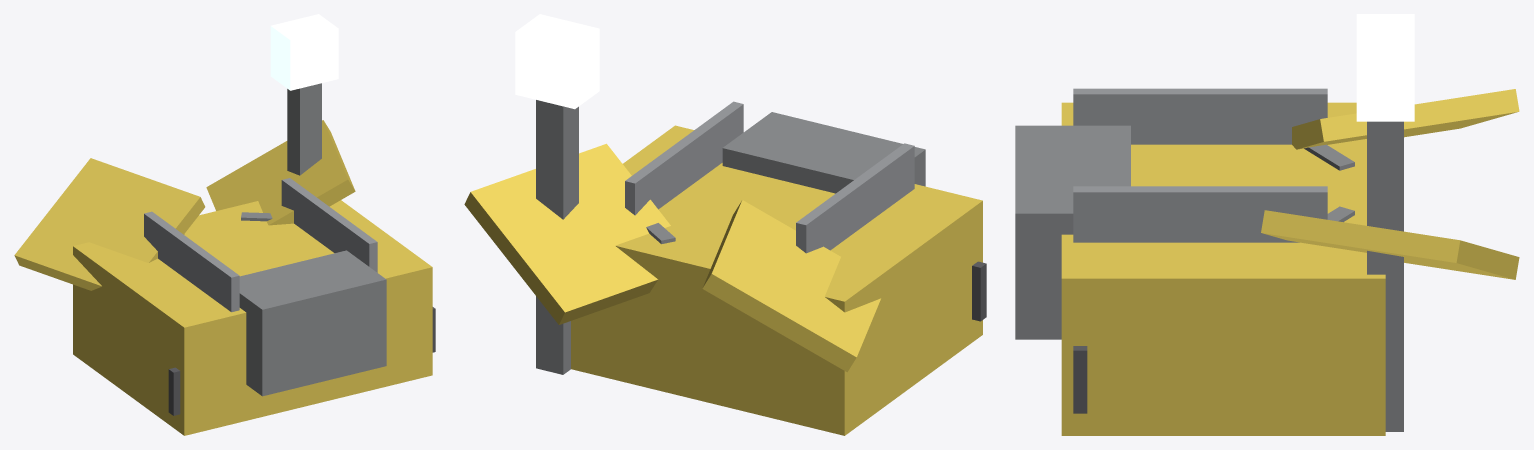
File: machine_splitter.glb
The picture shows the model from 3 angles, left to right: view 1: azimuth 30°, elevation 25°; view 2: azimuth 150°, elevation 25°; view 3: azimuth 270°, elevation 25°; orthographic projection. The views are drawn at different scales.
Parts seen in each view (by area): view 1: MP_body, MP_mouth, MP_chute_l, MP_chute_r, MP_pillar_head, MP_rail_l, MP_rail_r, MP_pillar, MP_skirt; view 2: MP_body, MP_chute_r, MP_chute_l, MP_mouth, MP_pillar_head, MP_pillar, MP_rail_l, MP_rail_r, MP_skirt; view 3: MP_body, MP_mouth, MP_rail_r, MP_rail_l, MP_pillar, MP_chute_r, MP_pillar_head, MP_chute_l, MP_skirt, MP_arrow_l.
Boxes of the visible parts, bbox=[...] form: MP_body: bbox=[73, 200, 432, 435]; MP_mouth: bbox=[239, 250, 386, 396]; MP_chute_l: bbox=[14, 158, 205, 290]; MP_chute_r: bbox=[206, 120, 355, 225]; MP_pillar_head: bbox=[270, 14, 338, 90]; MP_rail_l: bbox=[144, 211, 239, 312]; MP_rail_r: bbox=[281, 178, 377, 272]; MP_pillar: bbox=[287, 83, 321, 175]; MP_skirt: bbox=[168, 307, 435, 415]; MP_body: bbox=[571, 125, 982, 435]; MP_chute_r: bbox=[464, 143, 670, 324]; MP_chute_l: bbox=[702, 200, 880, 372]; MP_mouth: bbox=[722, 112, 925, 193]; MP_pillar_head: bbox=[515, 14, 599, 109]; MP_pillar: bbox=[536, 100, 578, 374]; MP_rail_l: bbox=[796, 143, 914, 253]; MP_rail_r: bbox=[625, 101, 743, 215]; MP_skirt: bbox=[972, 261, 986, 321]; MP_body: bbox=[1061, 102, 1385, 435]; MP_mouth: bbox=[1015, 125, 1130, 339]; MP_rail_r: bbox=[1073, 186, 1327, 242]; MP_rail_l: bbox=[1073, 88, 1327, 144]; MP_pillar: bbox=[1367, 121, 1403, 431]; MP_chute_r: bbox=[1261, 210, 1519, 279]; MP_pillar_head: bbox=[1356, 14, 1414, 121]; MP_chute_l: bbox=[1292, 89, 1519, 149]; MP_skirt: bbox=[1073, 346, 1087, 413]; MP_arrow_l: bbox=[1304, 144, 1354, 170].
Bounding box in the file's own units: 2.29 × 1.88 × 2.18.
